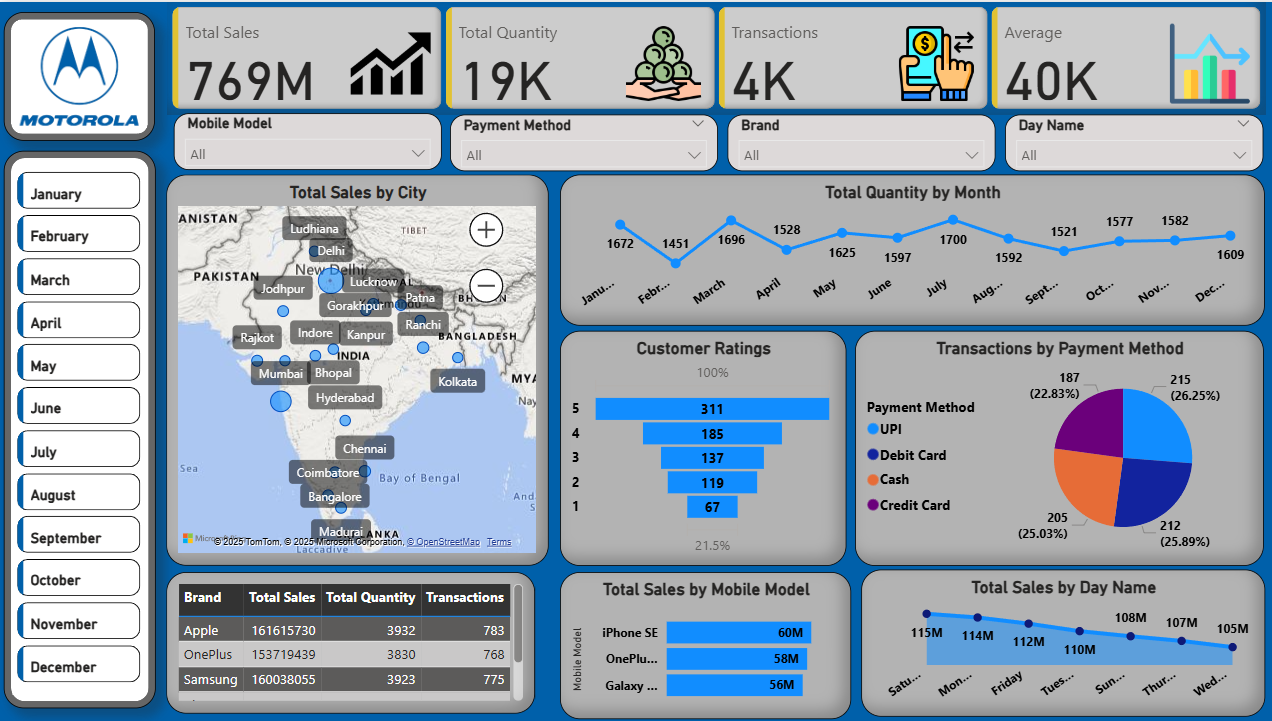

Layout of this report page (visuals, bound fields, positions):
{"tool":"powerbi","page":{"name":"Original Mobile Sales Data","canvas":[1280,720],"ordinal":0},"visuals":[{"type":"shape","box":[3.8,10,151.2,128.8],"z":0},{"type":"image","box":[10,10,138.8,128.8],"z":1000},{"type":"shape","box":[3.7,149.3,151.8,557.4],"z":2000},{"type":"advancedSlicerVisual","fields":{"Values":["Sales_Data.Date.Variation.Date Hierarchy.Month"]},"box":[12.4,164.2,133.1,533.7],"z":3000},{"type":"cardVisual","fields":{"Data":["Sales_Data.Total Sales","Sales_Data.Total Quantity","Sales_Data.Transactions","Sales_Data.Average"]},"box":[166.5,0,1113.5,112.2],"z":4000},{"type":"map","fields":{"Category":["Sales_Data.City"],"Size":["Sales_Data.Total Sales"]},"box":[166.5,172.5,382.4,390.9],"z":5000},{"type":"lineChart","fields":{"Category":["Sales_Data.Date.Variation.Date Hierarchy.Month","Sales_Data.Date.Variation.Date Hierarchy.Day"],"Y":["Sales_Data.Total Quantity"]},"box":[559.8,172.5,704.6,150.8],"z":6000},{"type":"barChart","fields":{"Category":["Sales_Data.Mobile Model"],"Y":["Sales_Data.Total Sales"]},"box":[560,572.5,295,147.5],"z":7000},{"type":"pieChart","fields":{"Y":["Sales_Data.Transactions"],"Category":["Sales_Data.Payment Method"]},"box":[855,328.8,408.8,235],"z":8000},{"type":"funnel","title":"Customer Ratings ","fields":{"Y":["CountNonNull(Sales_Data.Customer Ratings)"],"Category":["Sales_Data.Customer Ratings"]},"box":[560,328.8,286.2,235],"z":9000},{"type":"areaChart","fields":{"Y":["Sales_Data.Total Sales"],"Category":["Sales_Data.Day Name"]},"box":[855,572.5,408.8,147.5],"z":10000},{"type":"tableEx","fields":{"Values":["Sales_Data.Brand","Sales_Data.Total Sales","Sales_Data.Total Quantity","Sales_Data.Transactions"]},"box":[166.2,572.5,382.5,141.2],"z":11000},{"type":"slicer","fields":{"Values":["Sales_Data.Mobile Model"]},"box":[173.7,111,267.8,56.7],"z":12000},{"type":"slicer","fields":{"Values":["Sales_Data.Payment Method"]},"box":[450,112.2,267.8,56.7],"z":13000},{"type":"slicer","fields":{"Values":["Sales_Data.Brand"]},"box":[727.5,112.2,267.8,56.7],"z":14000},{"type":"slicer","fields":{"Values":["Sales_Data.Day Name"]},"box":[1005,112.2,258.2,56.7],"z":15000}]}

Visuals, with their boxes in screenshot pixels (x1, y1, x2, y2), scaled from the page's 1280x720 canvas onto the 1272x721 screenshot:
shape: 4/10/154/139
image: 10/10/148/139
shape: 4/150/155/708
advancedSlicerVisual - Sales_Data.Date.Variation.Date Hierarchy.Month: 12/164/145/699
cardVisual - Sales_Data.Total Sales x Sales_Data.Total Quantity: 165/0/1271/112
map - Sales_Data.City x Sales_Data.Total Sales: 165/173/545/564
lineChart - Sales_Data.Date.Variation.Date Hierarchy.Month x Sales_Data.Date.Variation.Date Hierarchy.Day: 556/173/1256/324
barChart - Sales_Data.Mobile Model x Sales_Data.Total Sales: 556/573/850/720
pieChart - Sales_Data.Transactions x Sales_Data.Payment Method: 850/329/1256/565
"Customer Ratings " funnel: 556/329/841/565
areaChart - Sales_Data.Total Sales x Sales_Data.Day Name: 850/573/1256/720
tableEx - Sales_Data.Brand x Sales_Data.Total Sales: 165/573/545/715
slicer - Sales_Data.Mobile Model: 173/111/439/168
slicer - Sales_Data.Payment Method: 447/112/713/169
slicer - Sales_Data.Brand: 723/112/989/169
slicer - Sales_Data.Day Name: 999/112/1255/169
